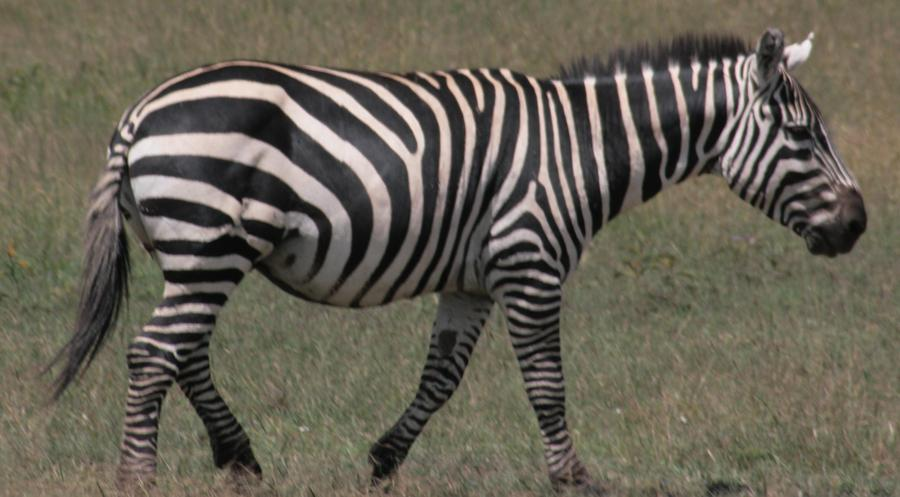zebra_plains: (132, 58, 601, 305)
